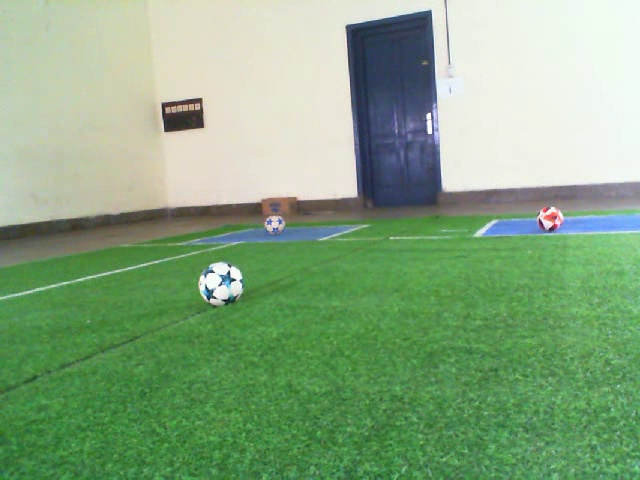ball: (196, 260, 245, 309), (535, 204, 565, 234), (264, 213, 286, 236)
